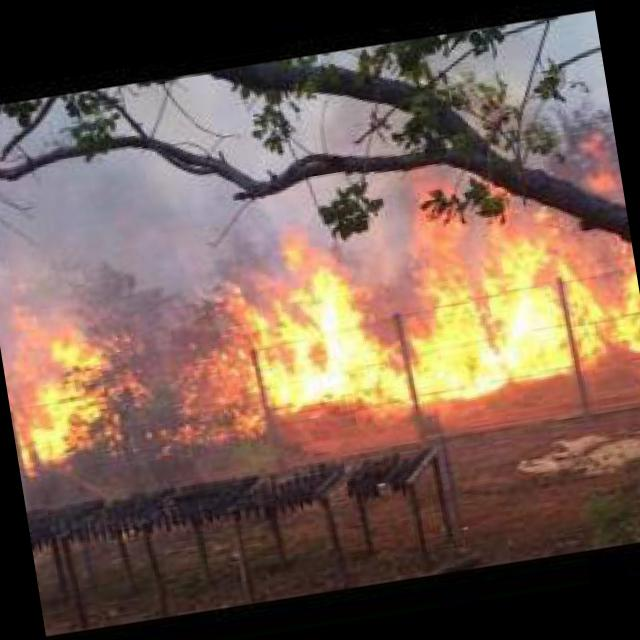fire: (144, 149, 640, 460), (0, 285, 146, 474)
